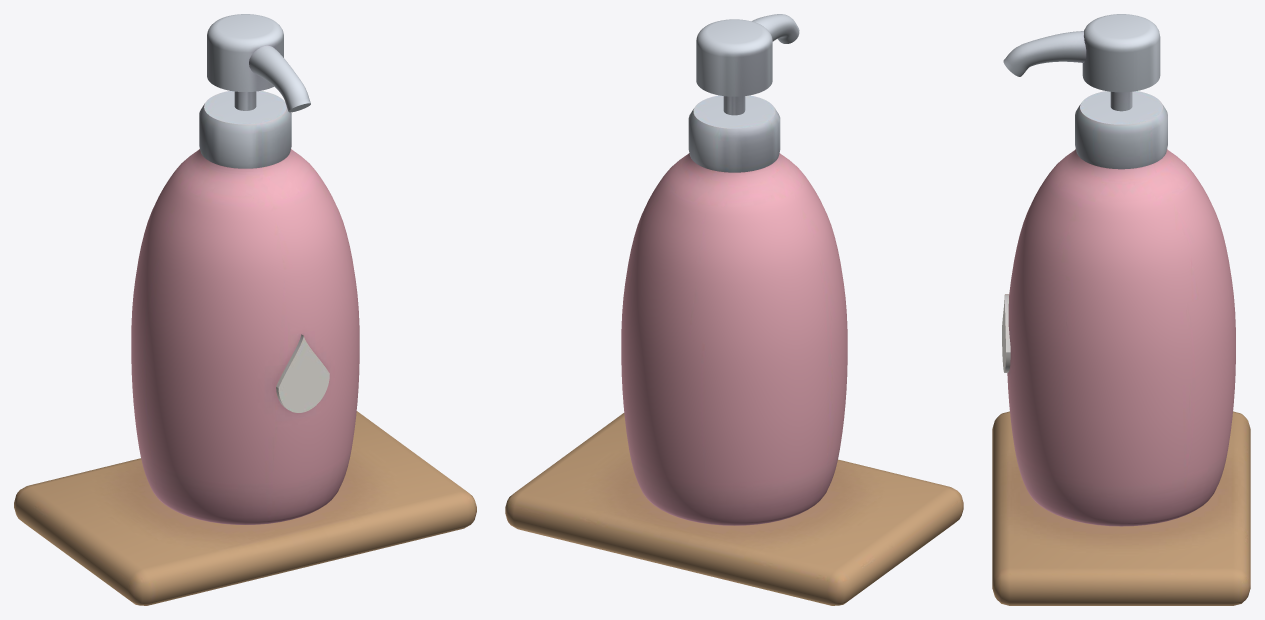
The model's file is jabonera.glb.
3 renders of one model, left to right at view 1: azimuth 30°, elevation 25°; view 2: azimuth 150°, elevation 25°; view 3: azimuth 270°, elevation 25°, orthographic.
Parts seen in each view (by area): view 1: soap-dispenser_body; view 2: soap-dispenser_body; view 3: soap-dispenser_body.
Part boxes in pixels (x1,y1,x2,y2): soap-dispenser_body: [14, 14, 476, 605]; soap-dispenser_body: [505, 14, 963, 605]; soap-dispenser_body: [992, 14, 1250, 605].
Size of the model in its own units: 0.14 by 0.1925 by 0.09.
2 materials, 2 textured.
